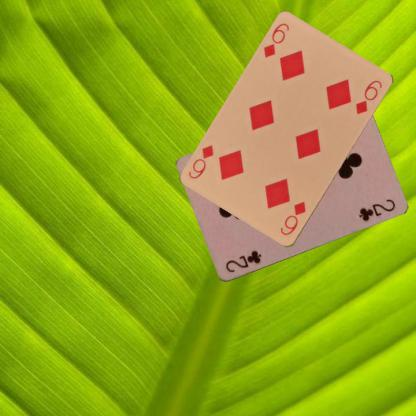2c: (222, 248, 263, 275)
6d: (260, 19, 290, 60), (277, 199, 308, 237)
